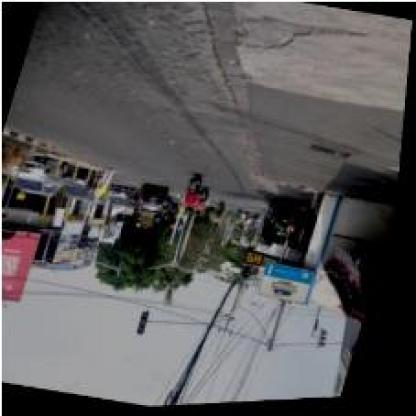yellow: (138, 312, 155, 337), (79, 224, 93, 249)
